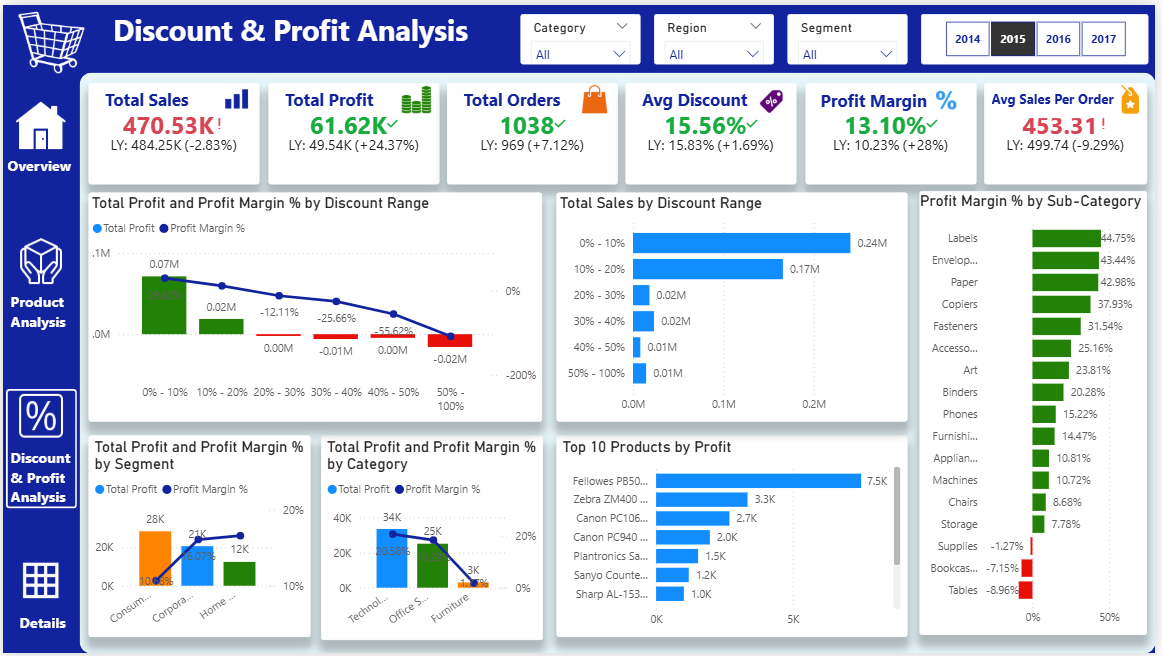

This screenshot's page, from the dashboard's own definition file:
{"tool":"powerbi","page":{"name":"Discount & Profit Analysis","canvas":[1280,720],"ordinal":2},"visuals":[{"type":"shape","box":[85.7,75.7,1195.7,645.7],"z":0},{"type":"slicer","fields":{"Values":["Date.Year"]},"box":[1019.6,9.5,252.9,55.7],"z":1000},{"type":"group","id":"g1","title":"Group 1","box":[95.7,86.6,190,112.9],"z":2000},{"type":"kpi","fields":{"Indicator":["key_measures.Total Sales"],"TrendLine":["Date.Year"],"Goal":["key_measures.LY Sales Display"]},"box":[95.7,86.6,190,112.9],"z":2000,"group":"g1"},{"type":"kpi","fields":{"TrendLine":["Date.Year"],"Indicator":["key_measures.Total Profit"],"Goal":["key_measures.Last Year Profit"]},"box":[294.4,86.6,190,112.9],"z":2000,"group":"g2"},{"type":"kpi","fields":{"TrendLine":["Date.Year"],"Indicator":["key_measures.Total Orders"],"Goal":["key_measures.LY Orders"]},"box":[493.3,86.6,190,112.9],"z":2000,"group":"g4"},{"type":"kpi","fields":{"TrendLine":["Date.Year"],"Goal":["key_measures.LY Avg Discount %"],"Indicator":["key_measures.Average Discount %"]},"box":[692.2,86.6,190,112.9],"z":2000,"group":"g5"},{"type":"kpi","fields":{"TrendLine":["Date.Year"],"Indicator":["key_measures.Profit Margin %"],"Goal":["key_measures.LY Profit Margin %"]},"box":[891,86.6,190,112.9],"z":2000,"group":"g6"},{"type":"kpi","fields":{"TrendLine":["Date.Year"],"Indicator":["key_measures.Average Sales Per Order"],"Goal":["key_measures.LY Avg sales per order"]},"box":[1090,87.1,181.4,112.9],"z":2000,"group":"g3"},{"type":"textbox","box":[108.4,86.6,133.6,35],"z":3000,"group":"g1"},{"type":"group","id":"g2","title":"Group 1","box":[294.4,86.6,190,112.9],"z":3000},{"type":"textbox","box":[307.1,86.6,133.6,35],"z":3000,"group":"g2"},{"type":"textbox","box":[506,86.6,133.6,35],"z":3000,"group":"g4"},{"type":"textbox","box":[704.9,86.6,137,35],"z":3000,"group":"g5"},{"type":"textbox","box":[903.5,87.9,144.3,34.4],"z":3000,"group":"g6"},{"type":"textbox","box":[1092.7,89,155.7,37.1],"z":3000,"group":"g3"},{"type":"group","id":"g3","title":"Group 1","box":[1090,87.1,181.4,112.9],"z":4000},{"type":"group","id":"g4","title":"Group 1","box":[493.3,86.6,190,112.9],"z":5000},{"type":"group","id":"g5","title":"Group 1","box":[692.2,86.6,190,112.9],"z":6000},{"type":"group","id":"g6","title":"Group 1","box":[891,86.6,190,112.9],"z":7000},{"type":"image","box":[242,88.9,34.6,32.1],"z":8000},{"type":"image","box":[639.5,88.9,34.6,32.1],"z":9000},{"type":"image","box":[1030.2,90.1,35.4,32.3],"z":10000},{"type":"image","box":[1235.7,88.6,35.7,32.9],"z":11000},{"type":"image","box":[440.8,88.7,35.2,32.4],"z":12000},{"type":"clusteredBarChart","title":"Top 10 Products by Profit","fields":{"Y":["key_measures.Total Profit"],"Category":["Superstore.Product Name"]},"box":[615.6,478.8,389.7,224.3],"z":13000},{"type":"lineClusteredColumnComboChart","fields":{"Category":["Superstore.Category"],"Y":["key_measures.Total Profit"],"Y2":["key_measures.Profit Margin %"]},"box":[353.1,478.8,246.5,227.5],"z":14000},{"type":"textbox","box":[107.8,0,433.3,55.8],"z":15000},{"type":"slicer","fields":{"Values":["Superstore.Region"]},"box":[722.7,9.5,133.6,55.7],"z":16000},{"type":"slicer","fields":{"Values":["Superstore.Segment"]},"box":[871.1,9.5,133.6,55.7],"z":17000},{"type":"image","box":[0,0,108.6,80],"z":18000},{"type":"image","box":[12.7,105,57.3,60.4],"z":19000},{"type":"textbox","box":[0,162.2,85.9,36.6],"z":20000},{"type":"slicer","fields":{"Values":["Superstore.Category"]},"box":[574.2,9.5,133.6,55.7],"z":21000},{"type":"image","box":[13.5,254.2,57.8,59.7],"z":22000},{"type":"textbox","box":[3.2,313.4,82.7,57.3],"z":23000},{"type":"card","fields":{"Values":["key_measures.LY_Message"]},"box":[177.2,48.1,300.4,27],"z":24000},{"type":"image","box":[13.5,426.9,57.7,59.6],"z":25000},{"type":"textbox","box":[3.8,486.5,82.7,90.4],"z":26000},{"type":"shape","box":[3.8,426.9,78.8,132.7],"z":27000},{"type":"image","box":[837.1,91,33.7,31.5],"z":28000},{"type":"clusteredBarChart","fields":{"Category":["Superstore.Sub-Category"],"Y":["key_measures.Profit Margin %"]},"box":[1018,206.8,252.9,493.1],"z":29000},{"type":"lineClusteredColumnComboChart","fields":{"Y":["key_measures.Total Profit"],"Category":["Superstore.Discount Range"],"Y2":["key_measures.Profit Margin %"]},"box":[95.4,208.4,504.2,254.5],"z":30000},{"type":"lineClusteredColumnComboChart","fields":{"Y":["key_measures.Total Profit"],"Y2":["key_measures.Profit Margin %"],"Category":["Superstore.Segment"]},"box":[95.4,478.8,246.5,224.3],"z":31000},{"type":"clusteredBarChart","fields":{"Category":["Superstore.Discount Range"],"Y":["key_measures.Total Sales"]},"box":[615.6,208.4,389.7,254.5],"z":32000},{"type":"image","box":[12.7,610.8,57.3,58.9],"z":33000},{"type":"textbox","box":[12.7,669.6,65,36.6],"z":34000}]}

Visuals, with their boxes in screenshot pixels (x1, y1, x2, y2), scaled from the page's 1280x720 canvas onto the 1162x656 screenshot:
shape: {"left": 78, "top": 69, "right": 1161, "bottom": 655}
slicer - Date.Year: {"left": 926, "top": 9, "right": 1155, "bottom": 59}
"Group 1" group: {"left": 87, "top": 79, "right": 259, "bottom": 182}
kpi - key_measures.Total Sales x Date.Year: {"left": 87, "top": 79, "right": 259, "bottom": 182}
kpi - Date.Year x key_measures.Total Profit: {"left": 267, "top": 79, "right": 440, "bottom": 182}
kpi - Date.Year x key_measures.Total Orders: {"left": 448, "top": 79, "right": 620, "bottom": 182}
kpi - Date.Year x key_measures.LY Avg Discount %: {"left": 628, "top": 79, "right": 801, "bottom": 182}
kpi - Date.Year x key_measures.Profit Margin %: {"left": 809, "top": 79, "right": 981, "bottom": 182}
kpi - Date.Year x key_measures.Average Sales Per Order: {"left": 990, "top": 79, "right": 1154, "bottom": 182}
textbox: {"left": 98, "top": 79, "right": 220, "bottom": 111}
"Group 1" group: {"left": 267, "top": 79, "right": 440, "bottom": 182}
textbox: {"left": 279, "top": 79, "right": 400, "bottom": 111}
textbox: {"left": 459, "top": 79, "right": 581, "bottom": 111}
textbox: {"left": 640, "top": 79, "right": 764, "bottom": 111}
textbox: {"left": 820, "top": 80, "right": 951, "bottom": 111}
textbox: {"left": 992, "top": 81, "right": 1133, "bottom": 115}
"Group 1" group: {"left": 990, "top": 79, "right": 1154, "bottom": 182}
"Group 1" group: {"left": 448, "top": 79, "right": 620, "bottom": 182}
"Group 1" group: {"left": 628, "top": 79, "right": 801, "bottom": 182}
"Group 1" group: {"left": 809, "top": 79, "right": 981, "bottom": 182}
image: {"left": 220, "top": 81, "right": 251, "bottom": 110}
image: {"left": 581, "top": 81, "right": 612, "bottom": 110}
image: {"left": 935, "top": 82, "right": 967, "bottom": 112}
image: {"left": 1122, "top": 81, "right": 1154, "bottom": 111}
image: {"left": 400, "top": 81, "right": 432, "bottom": 110}
"Top 10 Products by Profit" clusteredBarChart: {"left": 559, "top": 436, "right": 913, "bottom": 641}
lineClusteredColumnComboChart - Superstore.Category x key_measures.Total Profit: {"left": 321, "top": 436, "right": 544, "bottom": 644}
textbox: {"left": 98, "top": 0, "right": 491, "bottom": 51}
slicer - Superstore.Region: {"left": 656, "top": 9, "right": 777, "bottom": 59}
slicer - Superstore.Segment: {"left": 791, "top": 9, "right": 912, "bottom": 59}
image: {"left": 0, "top": 0, "right": 99, "bottom": 73}
image: {"left": 12, "top": 96, "right": 64, "bottom": 151}
textbox: {"left": 0, "top": 148, "right": 78, "bottom": 181}
slicer - Superstore.Category: {"left": 521, "top": 9, "right": 643, "bottom": 59}
image: {"left": 12, "top": 232, "right": 65, "bottom": 286}
textbox: {"left": 3, "top": 286, "right": 78, "bottom": 338}
card - key_measures.LY_Message: {"left": 161, "top": 44, "right": 434, "bottom": 68}
image: {"left": 12, "top": 389, "right": 65, "bottom": 443}
textbox: {"left": 3, "top": 443, "right": 79, "bottom": 526}
shape: {"left": 3, "top": 389, "right": 75, "bottom": 510}
image: {"left": 760, "top": 83, "right": 791, "bottom": 112}
clusteredBarChart - Superstore.Sub-Category x key_measures.Profit Margin %: {"left": 924, "top": 188, "right": 1154, "bottom": 638}
lineClusteredColumnComboChart - key_measures.Total Profit x Superstore.Discount Range: {"left": 87, "top": 190, "right": 544, "bottom": 422}
lineClusteredColumnComboChart - key_measures.Total Profit x key_measures.Profit Margin %: {"left": 87, "top": 436, "right": 310, "bottom": 641}
clusteredBarChart - Superstore.Discount Range x key_measures.Total Sales: {"left": 559, "top": 190, "right": 913, "bottom": 422}
image: {"left": 12, "top": 557, "right": 64, "bottom": 610}
textbox: {"left": 12, "top": 610, "right": 71, "bottom": 643}
